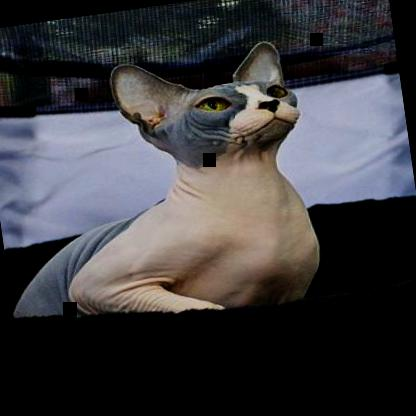cat: (0, 36, 328, 338)
